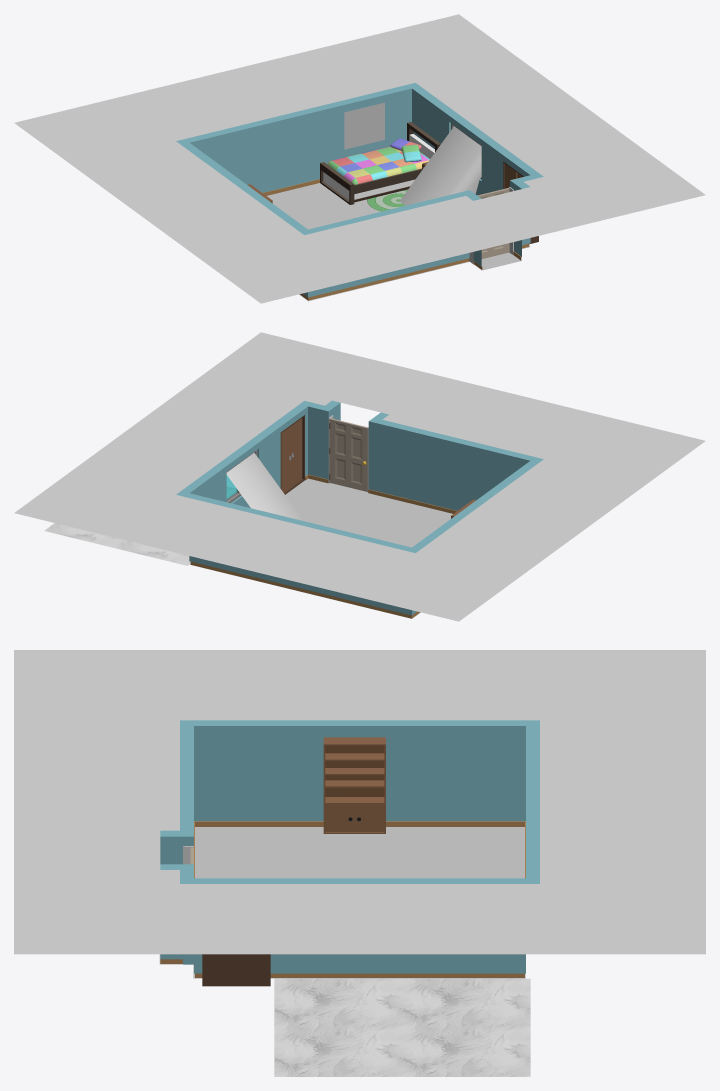
File: Room.FBX
The picture shows the model from 3 angles, top to bottom: view 1: azimuth 30°, elevation 25°; view 2: azimuth 150°, elevation 25°; view 3: azimuth 270°, elevation 25°; orthographic projection. The views are drawn at different scales.
Visible parts, largest first — view 1: Vacio, Paredes, Cama, Luz, Piso, Poster, Alfombra; view 2: Vacio, Paredes, Piso, Puerta, Luz, Exterior, Closet; view 3: Vacio, Paredes, Exterior, Piso, Bliblioteca, Closet.
Boxes of the visible parts, x1,y1,x2,y2 form: Vacio: (14,14,705,303); Paredes: (176,83,543,300); Cama: (320,122,440,204); Luz: (400,126,481,205); Piso: (267,183,529,301); Poster: (344,102,384,149); Alfombra: (367,189,407,211); Vacio: (14,332,705,621); Paredes: (176,400,543,618); Piso: (190,478,452,618); Puerta: (329,418,367,491); Luz: (226,452,303,520); Exterior: (44,487,235,565); Closet: (280,415,304,494); Vacio: (14,650,705,954); Paredes: (160,720,539,977); Exterior: (274,978,530,1076); Piso: (159,827,525,978); Bliblioteca: (323,737,385,833); Closet: (202,954,270,986).
Bounding box in the file's own units: 2093 × 1875 × 301.
